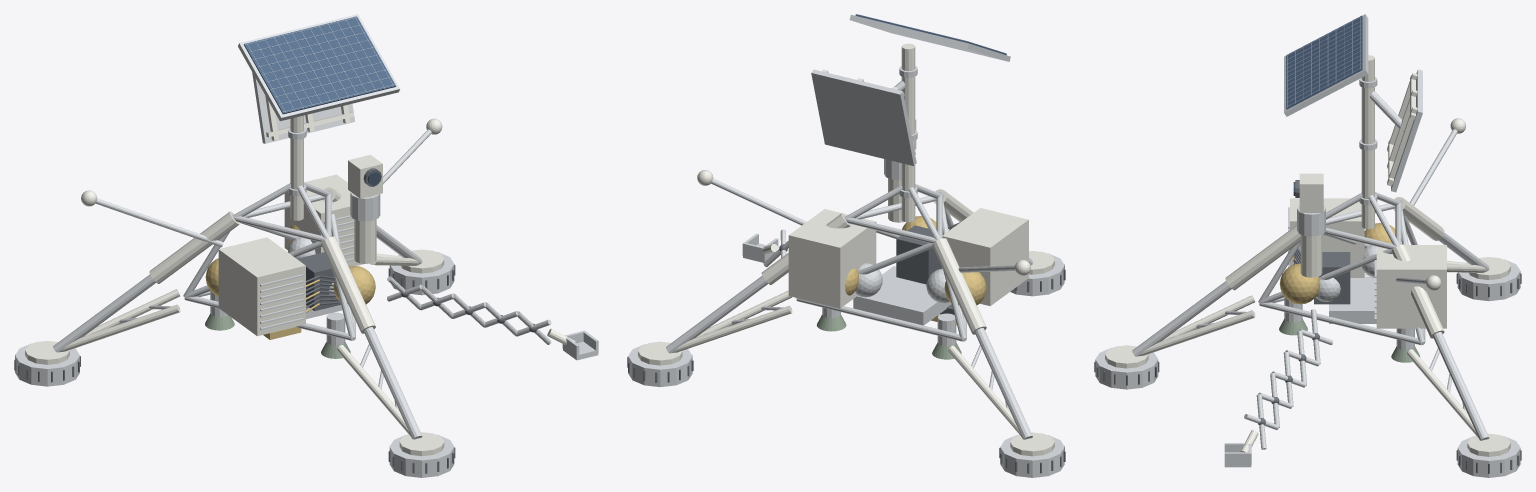
The model's file is surveyor-3.glb.
3 renders of one model, left to right at view 1: azimuth 30°, elevation 25°; view 2: azimuth 150°, elevation 25°; view 3: azimuth 270°, elevation 25°, orthographic. The views are drawn at different scales.
Visible parts, largest first — view 1: solar cells, thermal bay 0, thermal bay 1, solar backing, hydraulic 0, hydraulic 2, foot pad 0, foot pad 2, high gain plate, shock 0, shock 2, foot pad 1 (+14 smaller); view 2: high gain plate, thermal bay 1, thermal bay 0, central deck, central mast, hydraulic 2, electronics, foot pad 2, foot pad 1, solar backing, shock 2, shock 1 (+17 smaller); view 3: thermal bay 1, solar cells, central mast, thermal bay 0, foot pad 1, central deck, foot pad 0, hydraulic 0, foot pad 2, shock 1, shock 0, tank 0-1 (+21 smaller).
Part boxes in pixels (bbox=[...]): solar cells: bbox=[244, 16, 395, 114]; thermal bay 0: bbox=[218, 237, 305, 336]; thermal bay 1: bbox=[284, 174, 363, 266]; solar backing: bbox=[238, 14, 399, 121]; hydraulic 0: bbox=[321, 236, 375, 333]; hydraulic 2: bbox=[149, 211, 239, 283]; foot pad 0: bbox=[389, 434, 454, 477]; foot pad 2: bbox=[15, 343, 79, 386]; high gain plate: bbox=[252, 72, 354, 143]; shock 0: bbox=[363, 327, 422, 439]; shock 2: bbox=[53, 214, 233, 352]; foot pad 1: bbox=[389, 252, 454, 295]; high gain plate: bbox=[811, 69, 916, 165]; thermal bay 1: bbox=[788, 209, 876, 308]; thermal bay 0: bbox=[942, 208, 1028, 306]; central deck: bbox=[853, 266, 951, 325]; central mast: bbox=[901, 43, 915, 222]; hydraulic 2: bbox=[932, 238, 986, 334]; electronics: bbox=[896, 225, 941, 284]; foot pad 2: bbox=[1000, 435, 1064, 477]; foot pad 1: bbox=[628, 344, 692, 387]; solar backing: bbox=[849, 14, 1010, 61]; shock 2: bbox=[974, 328, 1032, 439]; shock 1: bbox=[666, 215, 848, 353]; thermal bay 1: bbox=[1376, 245, 1446, 328]; solar cells: bbox=[1286, 15, 1362, 109]; central mast: bbox=[1361, 55, 1374, 229]; thermal bay 0: bbox=[1290, 198, 1364, 277]; foot pad 1: bbox=[1457, 436, 1520, 477]; central deck: bbox=[1329, 277, 1376, 323]; foot pad 0: bbox=[1095, 347, 1158, 389]; hydraulic 0: bbox=[1225, 225, 1300, 290]; foot pad 2: bbox=[1457, 259, 1520, 301]; shock 1: bbox=[1433, 332, 1489, 440]; shock 0: bbox=[1132, 281, 1231, 356]; tank 0-1: bbox=[1280, 263, 1319, 304].
Size of the model in its own units: 4.1 by 3.06 by 3.54.
